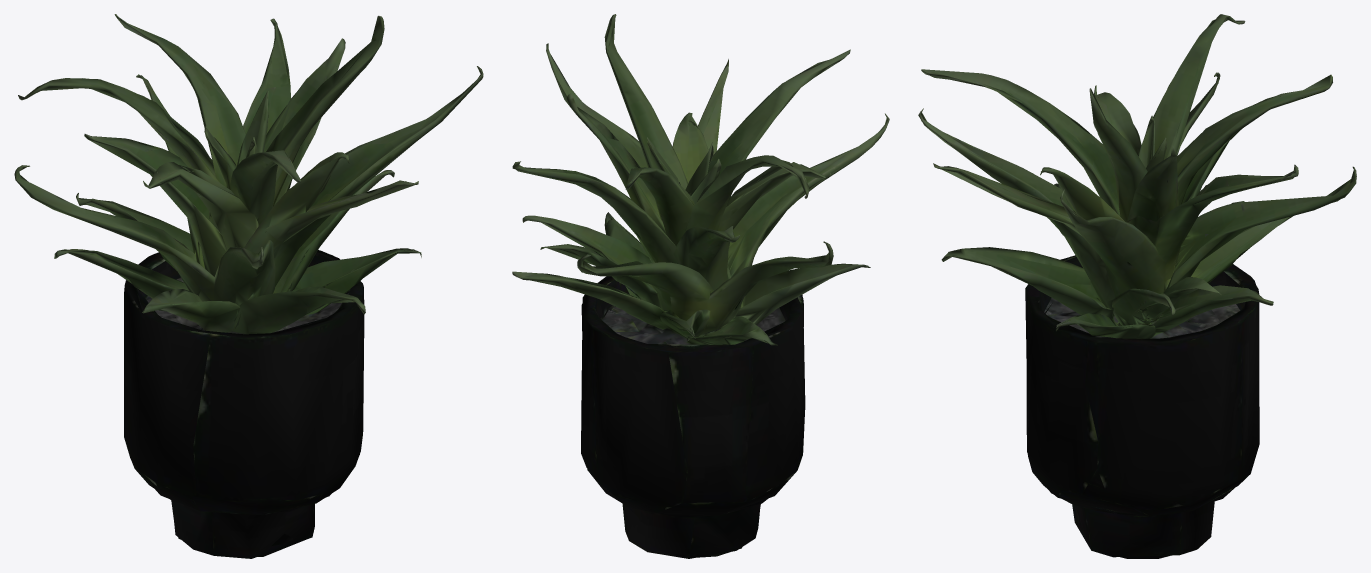
File: black-ceramic-plant.glb
3 renders of one model, left to right at view 1: azimuth 30°, elevation 25°; view 2: azimuth 150°, elevation 25°; view 3: azimuth 270°, elevation 25°, orthographic. The views are drawn at different scales.
Parts seen in each view (by area): view 1: world; view 2: world; view 3: world.
Boxes of the visible parts, bbox=[...] form: world: bbox=[14, 14, 483, 558]; world: bbox=[512, 14, 889, 558]; world: bbox=[918, 14, 1356, 558].
Size of the model in its own units: 0.7978 by 0.9964 by 0.8014.
1 material, 1 textured.
